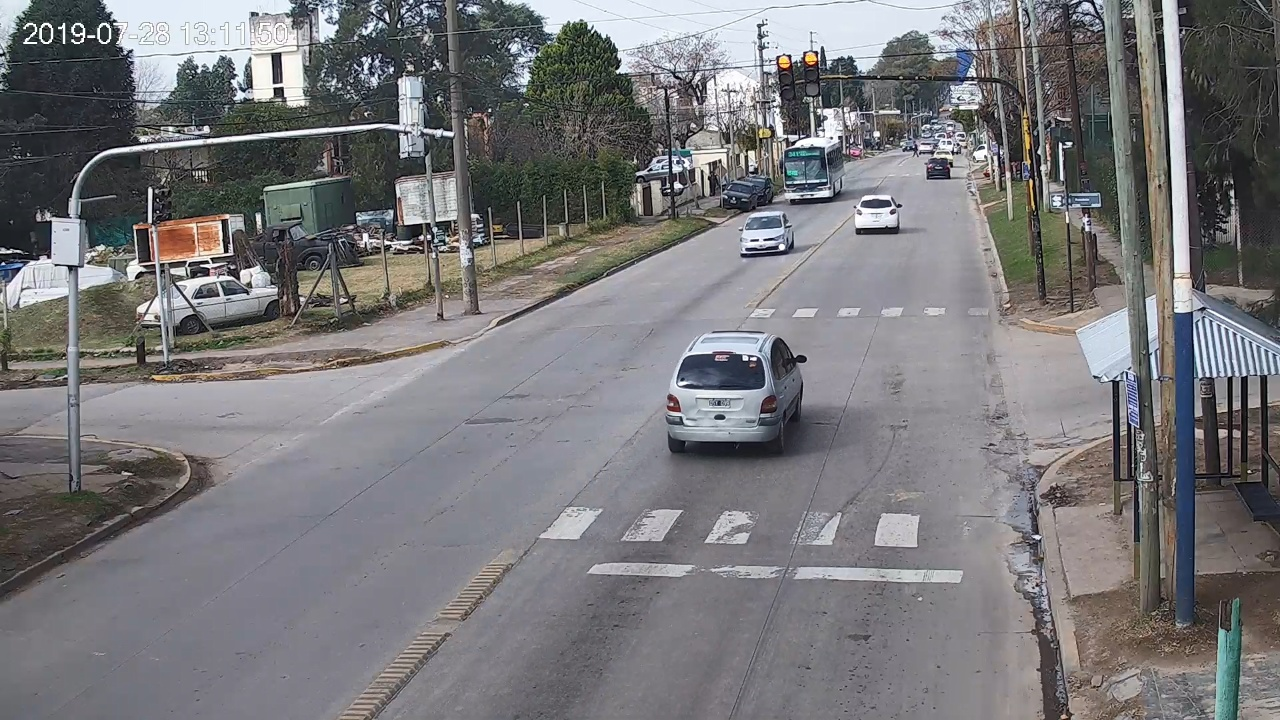car: (666, 330, 807, 454), (854, 195, 902, 234)
front car: (739, 211, 794, 257)
traffic light: (777, 54, 796, 101), (803, 51, 819, 96)
